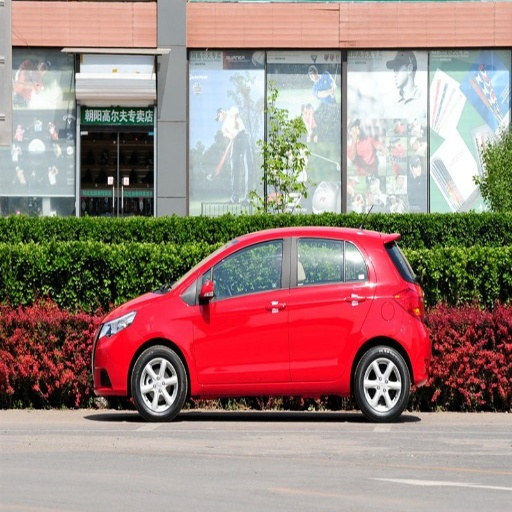back_left_door: (291, 236, 373, 379)
front_left_door: (193, 236, 290, 383)
